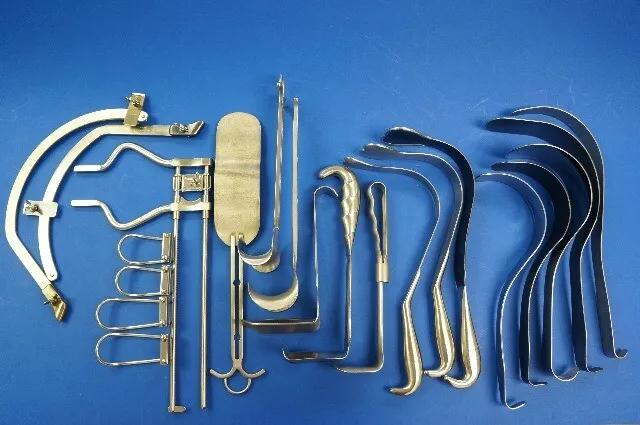Harrington Retractor: (383, 123, 476, 398), (345, 151, 429, 405), (279, 157, 359, 380)
